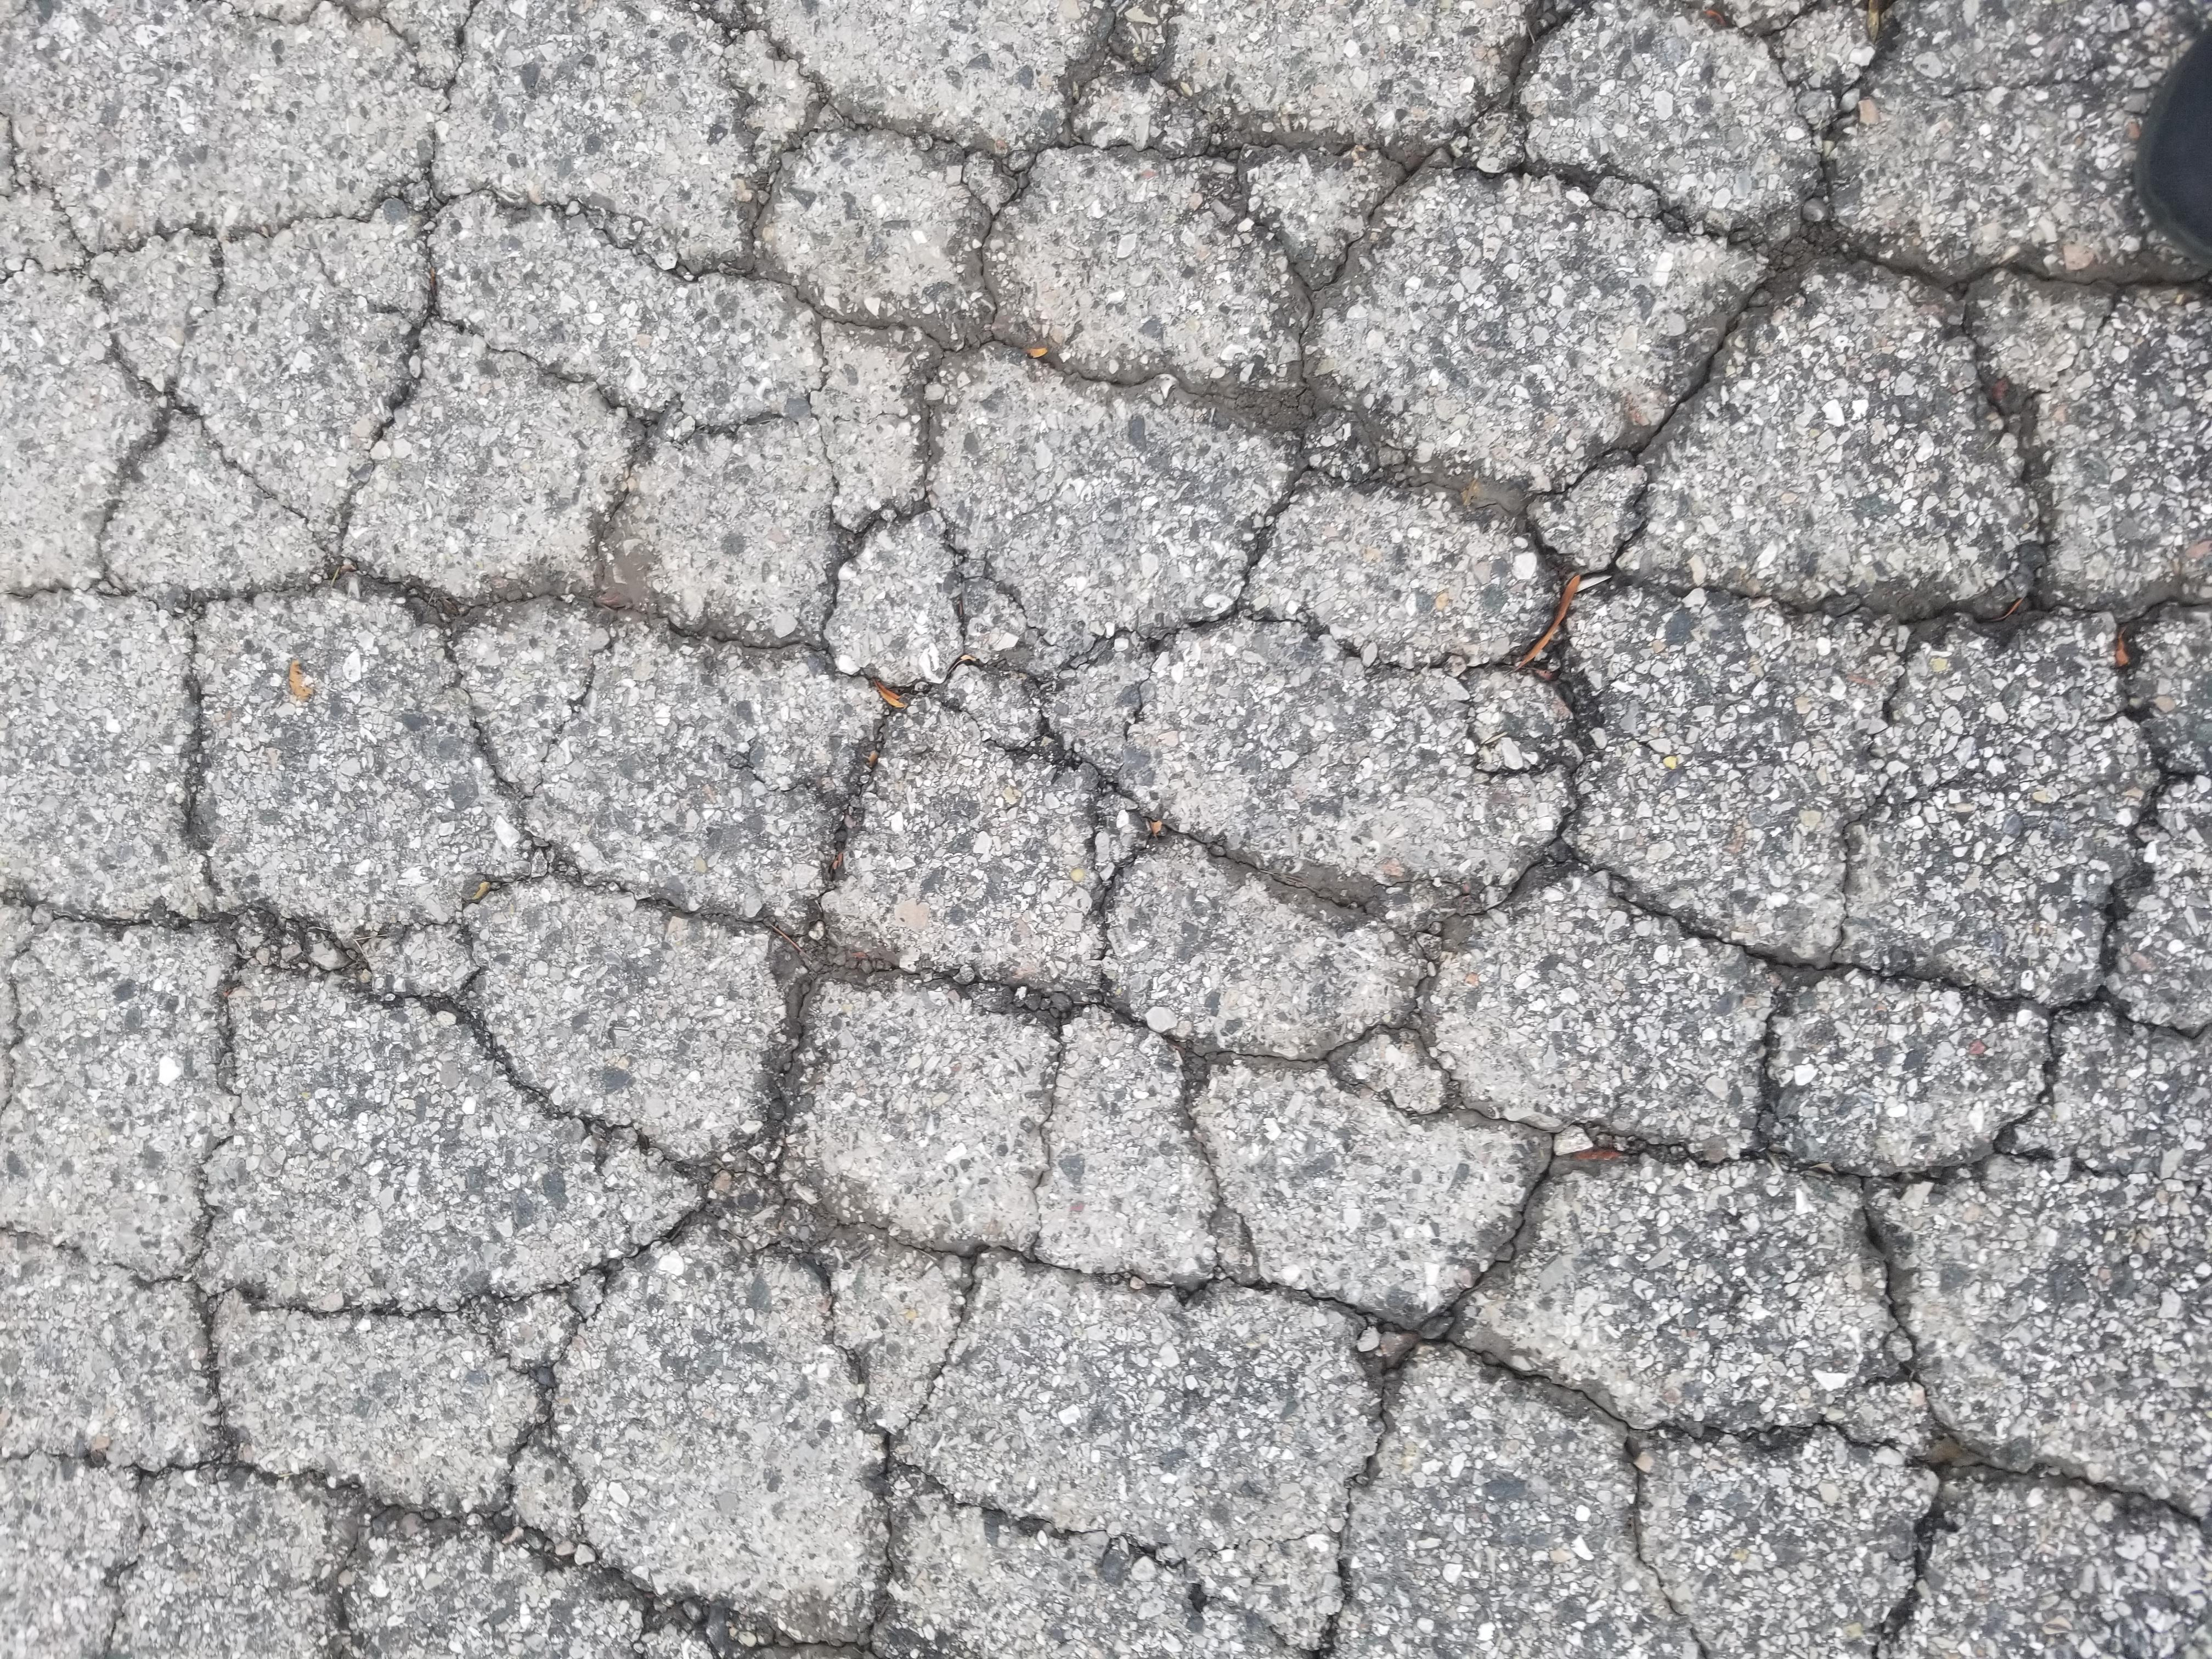alligator-crack: (31, 23, 2198, 1649)
